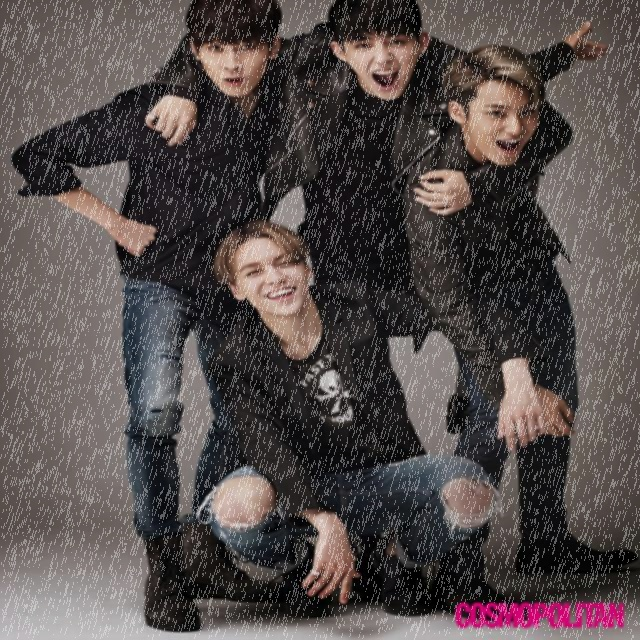pessoa: (1, 0, 454, 639), (138, 0, 579, 438), (392, 17, 639, 636), (200, 220, 550, 620)
